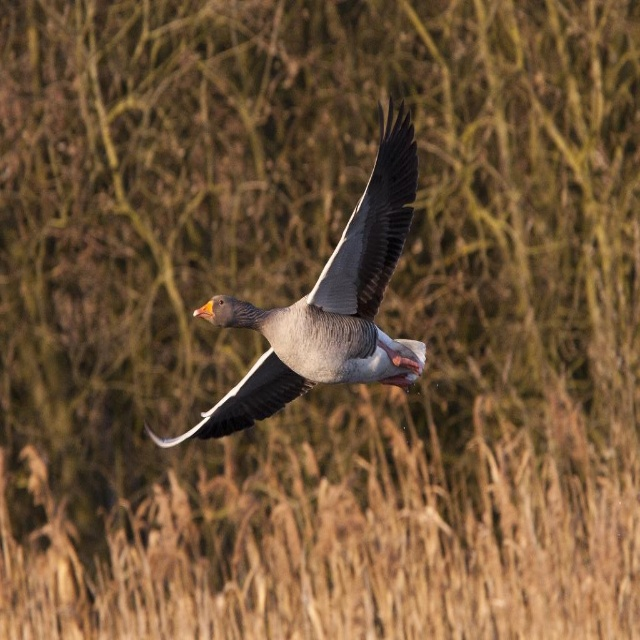Goose: (143, 97, 426, 446)
